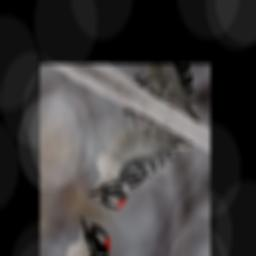Woodpecker: (85, 97, 194, 239)
